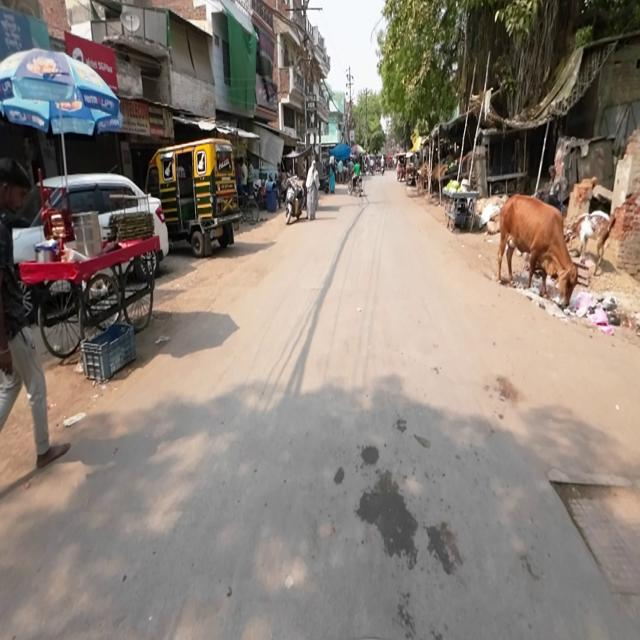Garbage: (573, 292, 618, 325)
